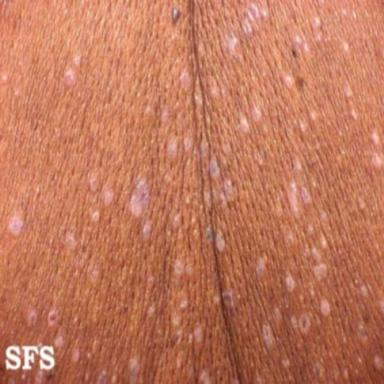lichen: (130, 179, 149, 217), (288, 181, 299, 217), (262, 324, 275, 349), (8, 216, 23, 236), (293, 35, 309, 52), (227, 33, 238, 55), (299, 314, 311, 334), (129, 359, 139, 383), (313, 264, 327, 281), (180, 69, 192, 88), (223, 179, 233, 201), (222, 290, 234, 308), (247, 3, 259, 21), (65, 232, 77, 250), (215, 231, 225, 252), (65, 68, 76, 86), (209, 159, 220, 177), (47, 309, 58, 326), (314, 362, 325, 379), (27, 309, 37, 327), (320, 299, 330, 316), (253, 151, 264, 166), (301, 187, 311, 203), (252, 106, 262, 122), (193, 327, 203, 343), (256, 260, 265, 277), (103, 189, 113, 204), (174, 260, 184, 275), (242, 19, 252, 34), (143, 221, 151, 239), (286, 276, 295, 292), (372, 153, 382, 167), (205, 225, 213, 242), (241, 118, 250, 133), (283, 75, 293, 88), (147, 304, 156, 318), (210, 86, 220, 98), (293, 158, 301, 172), (91, 210, 100, 222), (55, 336, 64, 348), (90, 177, 97, 192), (169, 142, 177, 155), (161, 109, 169, 122), (286, 231, 294, 244), (311, 248, 320, 259), (173, 214, 180, 228), (184, 138, 191, 151), (372, 132, 379, 145), (72, 349, 79, 362), (73, 55, 81, 66), (313, 17, 321, 28), (147, 276, 155, 287), (213, 294, 221, 305), (223, 143, 231, 154), (180, 299, 188, 309), (309, 111, 317, 121), (185, 264, 192, 275), (350, 109, 357, 120), (360, 286, 367, 297), (299, 121, 306, 132), (321, 238, 327, 249), (343, 42, 349, 50), (263, 9, 267, 17)
